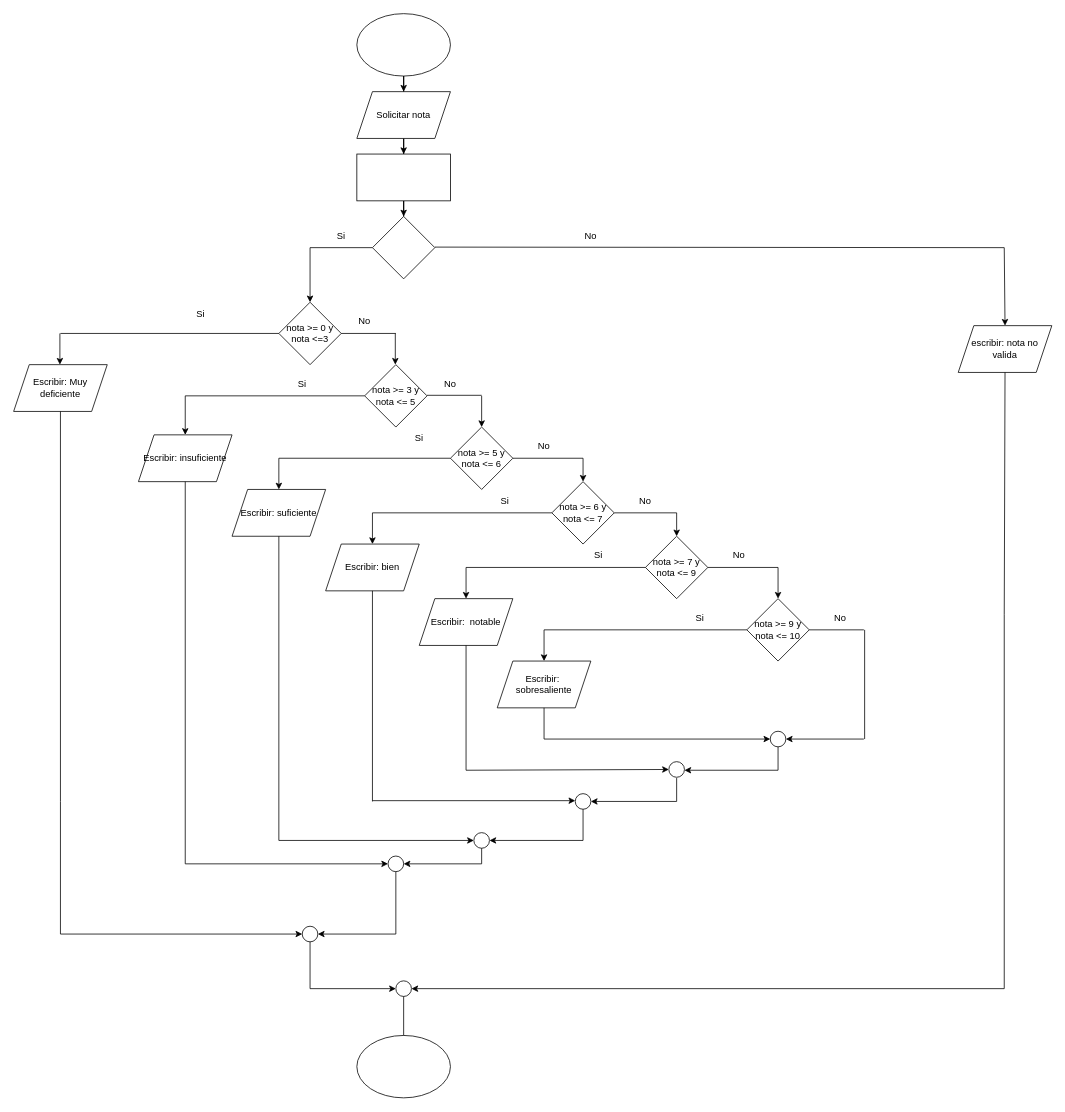
Image size: 1065x1112. Some labels were removed from this diagram. The box of each missing label's shape, as (x1, y1, x2, y2) in pixels:
FIN: (356, 1035, 450, 1098)
Inicio: (356, 13, 450, 76)
leer nota: (356, 153, 450, 201)
nota >= 0 y nota <= 10: (372, 216, 435, 279)
